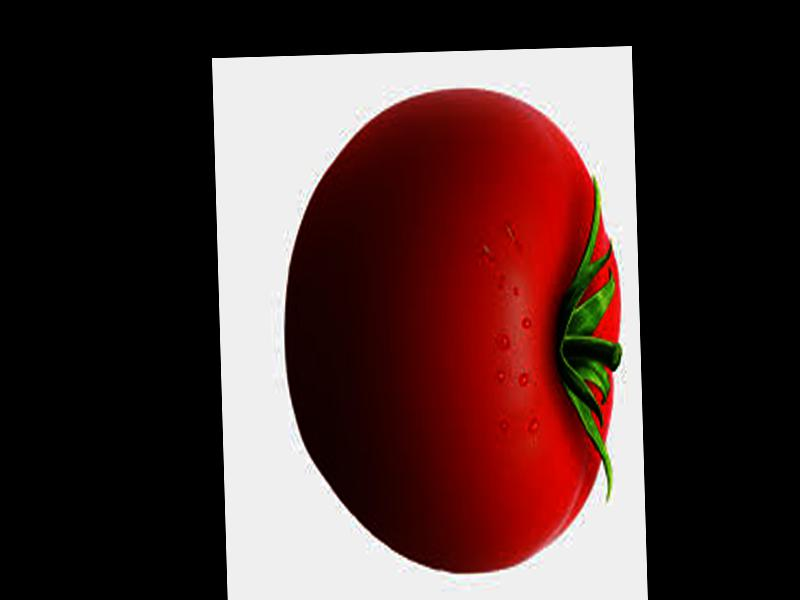Tomato: (278, 142, 628, 577)
